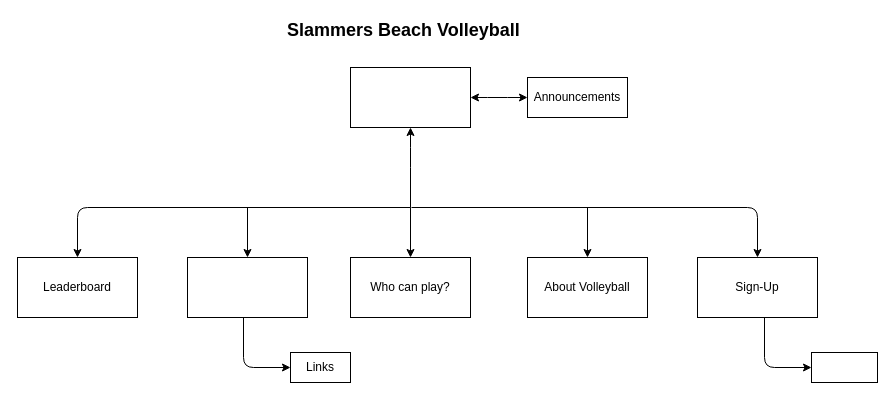
Some shapes in this 895 by 400 pixel diagram are drawn without their labels. Each missing label, with the centre of its shape:
Contact: (247,287)
Guidelines: (844,367)
Home: (410,97)
